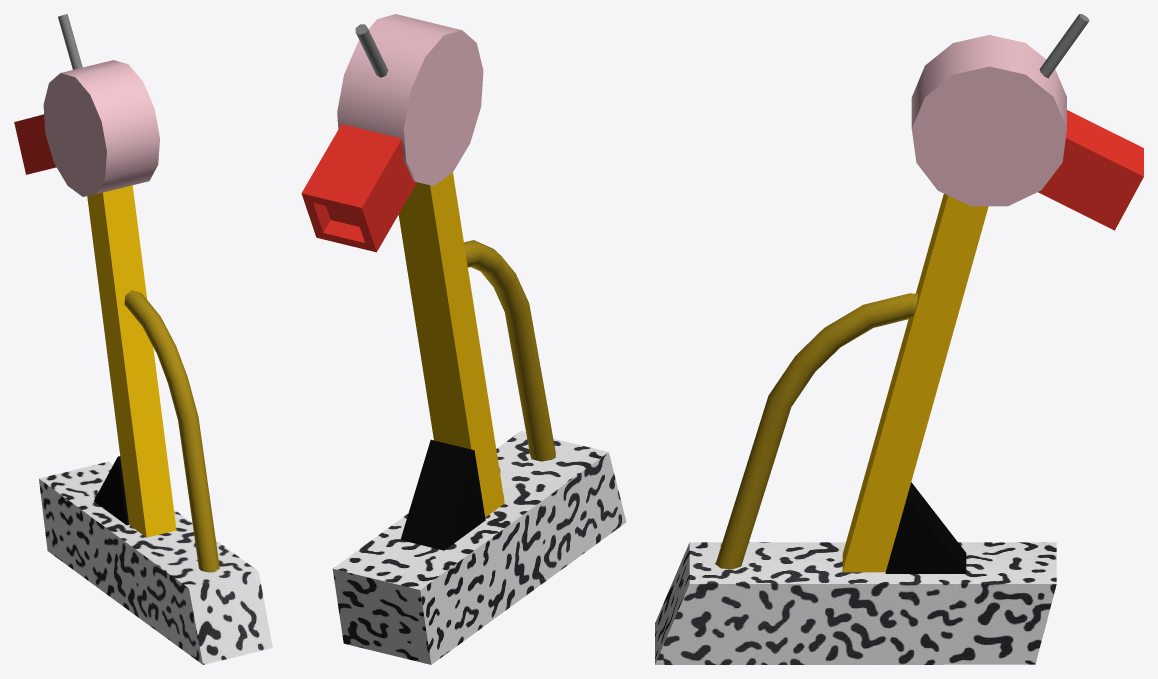
Rendered from tahiti.glb.
3 renders of one model, left to right at view 1: azimuth 30°, elevation 25°; view 2: azimuth 150°, elevation 25°; view 3: azimuth 270°, elevation 25°, orthographic. The views are drawn at different scales.
Visible parts, largest first — view 1: tahiti; view 2: tahiti; view 3: tahiti.
Part boxes in pixels (x1,y1,x2,y2): tahiti: (14, 14, 272, 664); tahiti: (301, 14, 626, 664); tahiti: (655, 14, 1143, 664).
Size of the model in its own units: 0.0756 by 0.5332 by 0.3751.
1 material, 1 textured.
